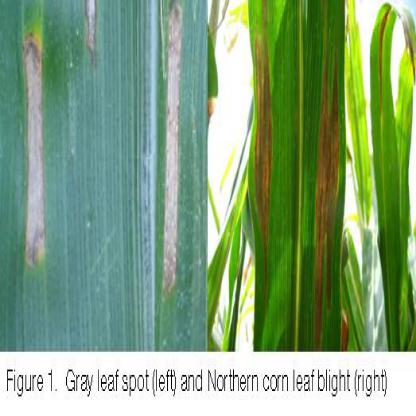corn gray leaf spot: (1, 2, 208, 350)
